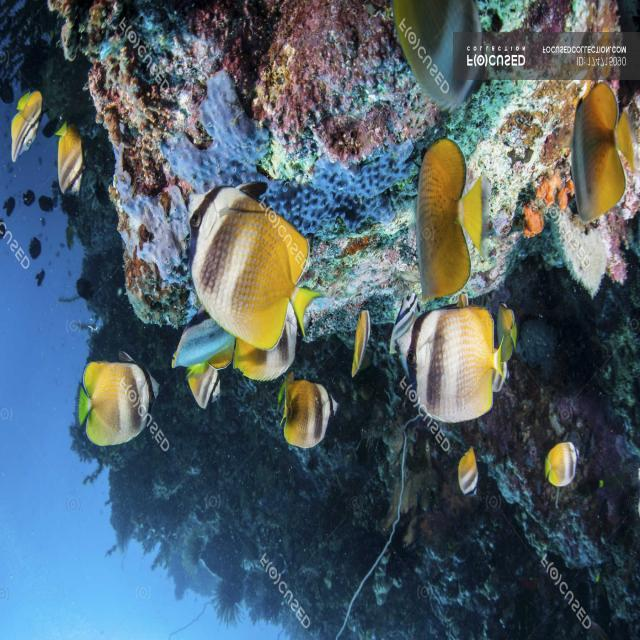ButterflyFish: (390, 120, 499, 302), (188, 190, 320, 336), (559, 60, 640, 238), (392, 298, 508, 421), (78, 338, 168, 456), (268, 367, 348, 487), (429, 422, 499, 522), (242, 307, 306, 403), (46, 115, 104, 209), (2, 70, 48, 163), (186, 342, 222, 428), (531, 430, 581, 490), (348, 288, 373, 392)
